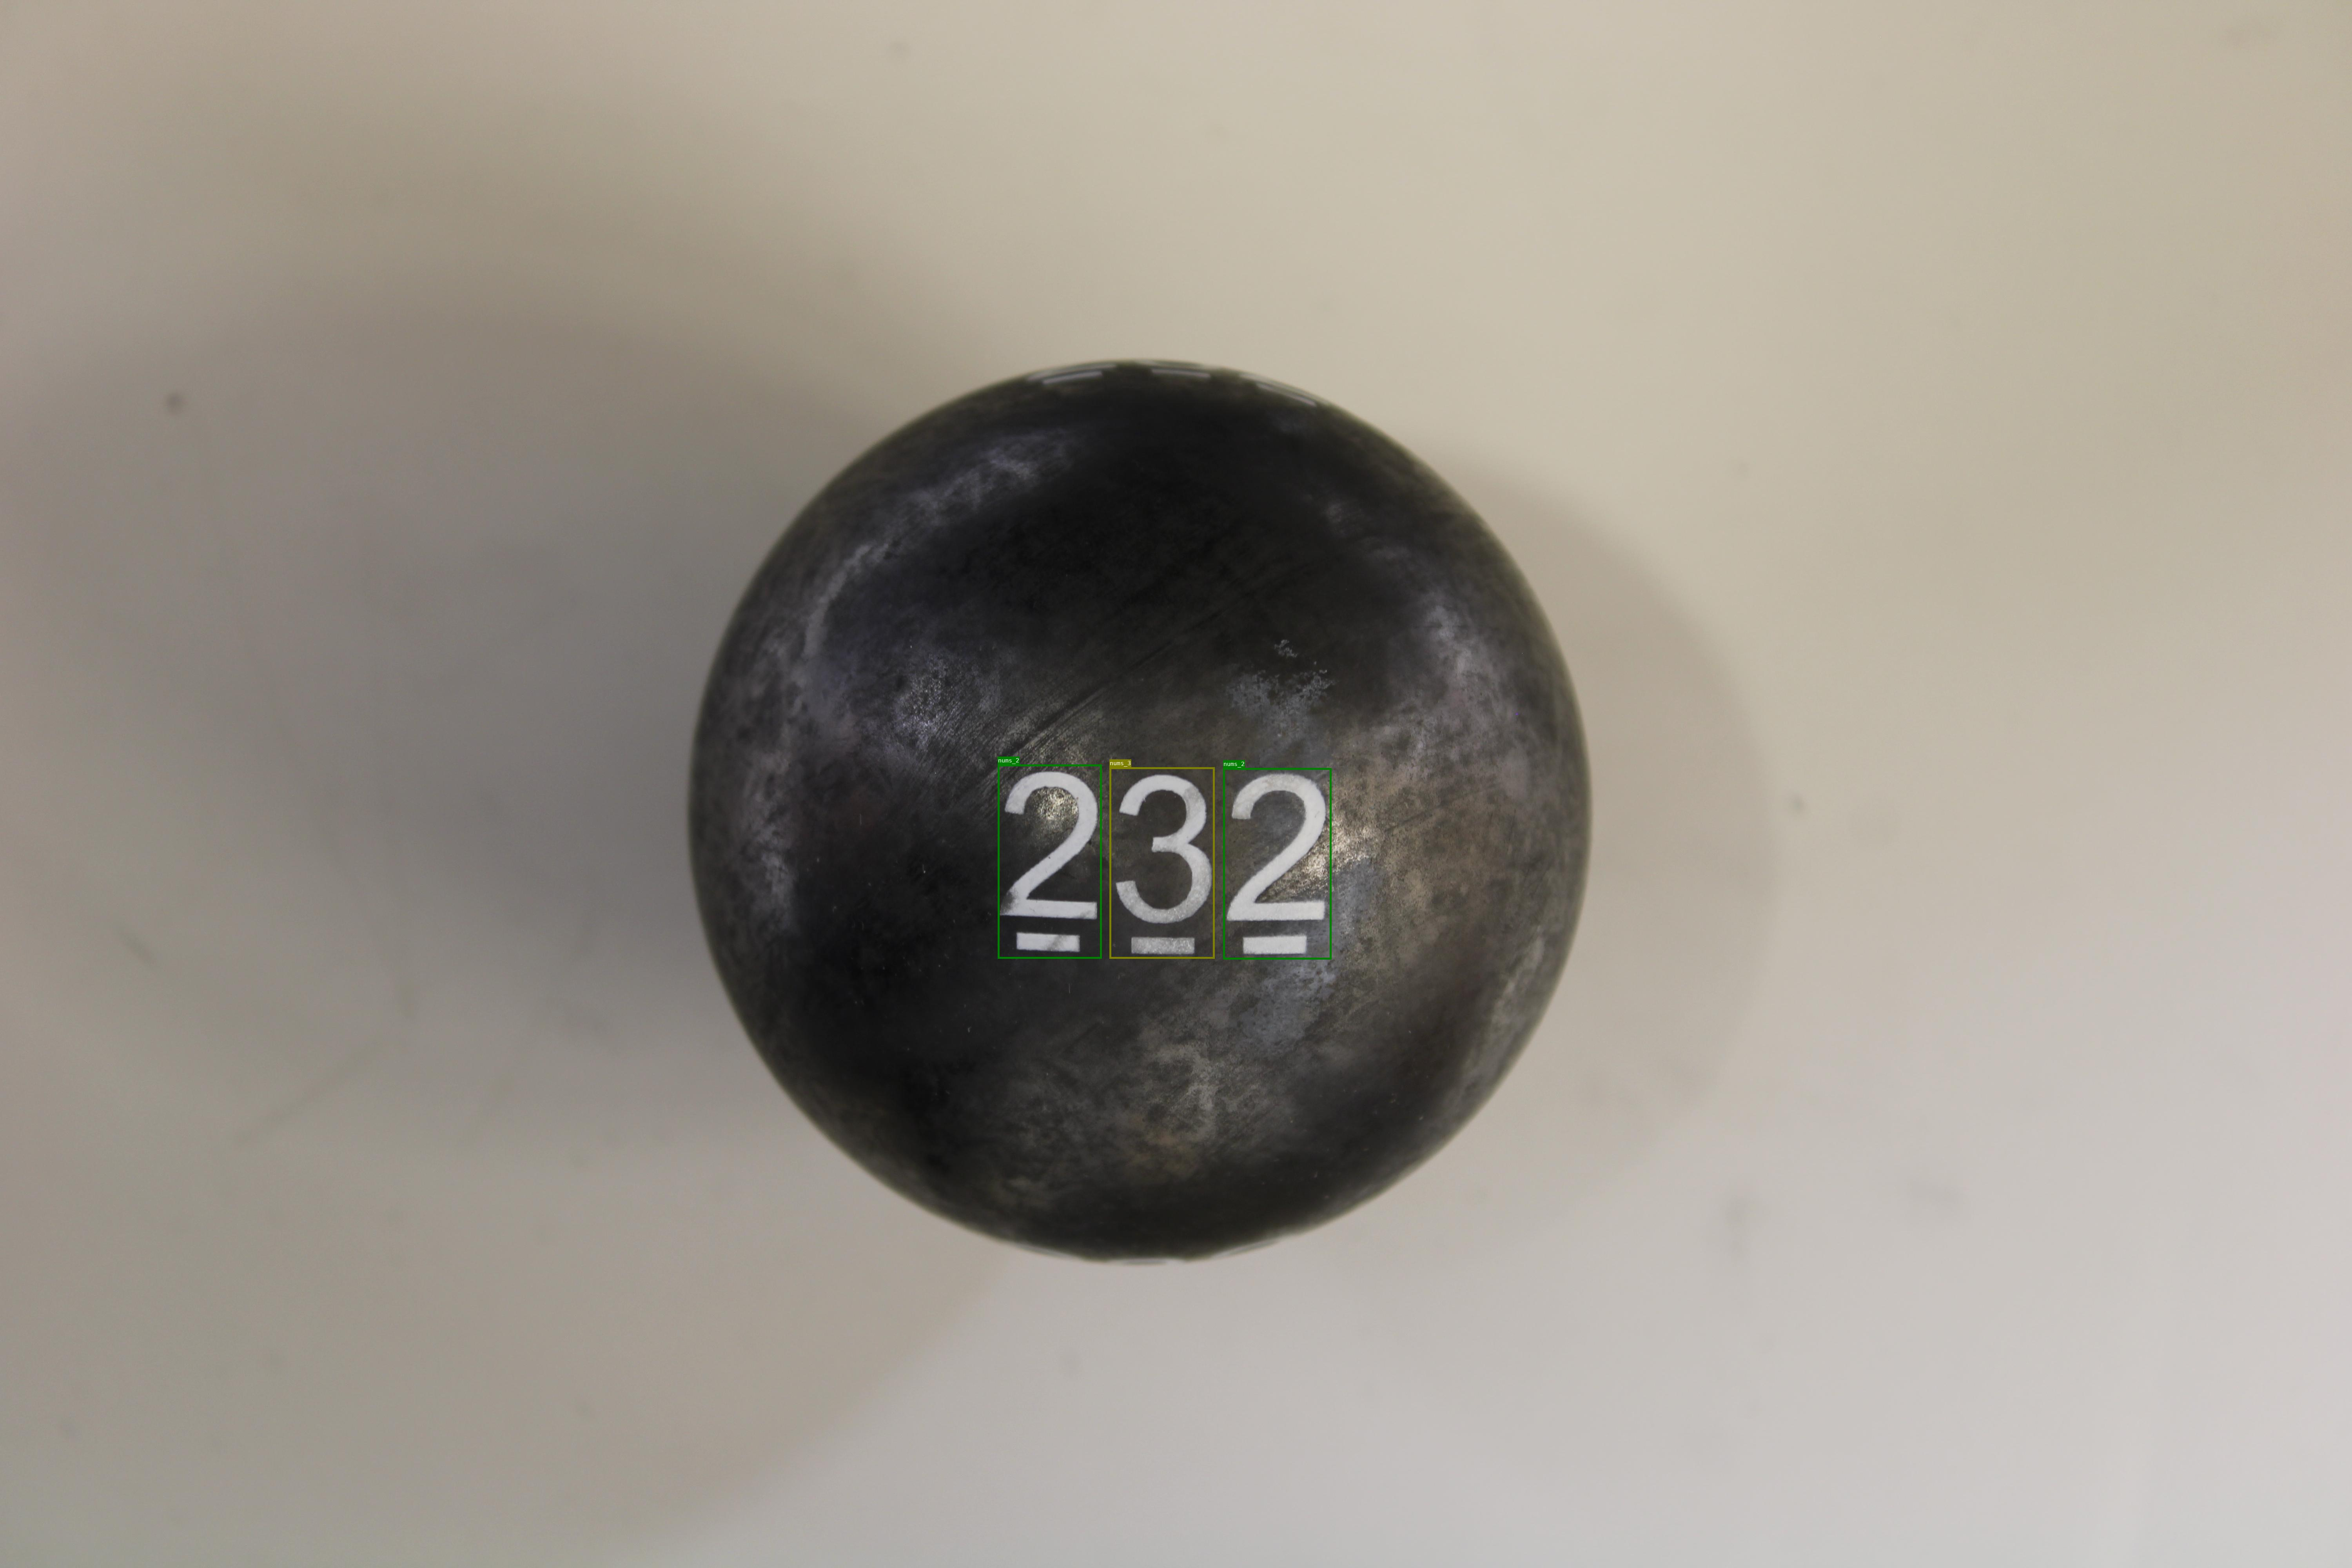nums_2: (1223, 768, 1332, 959), (998, 765, 1101, 959)
nums_3: (1110, 766, 1214, 959)
